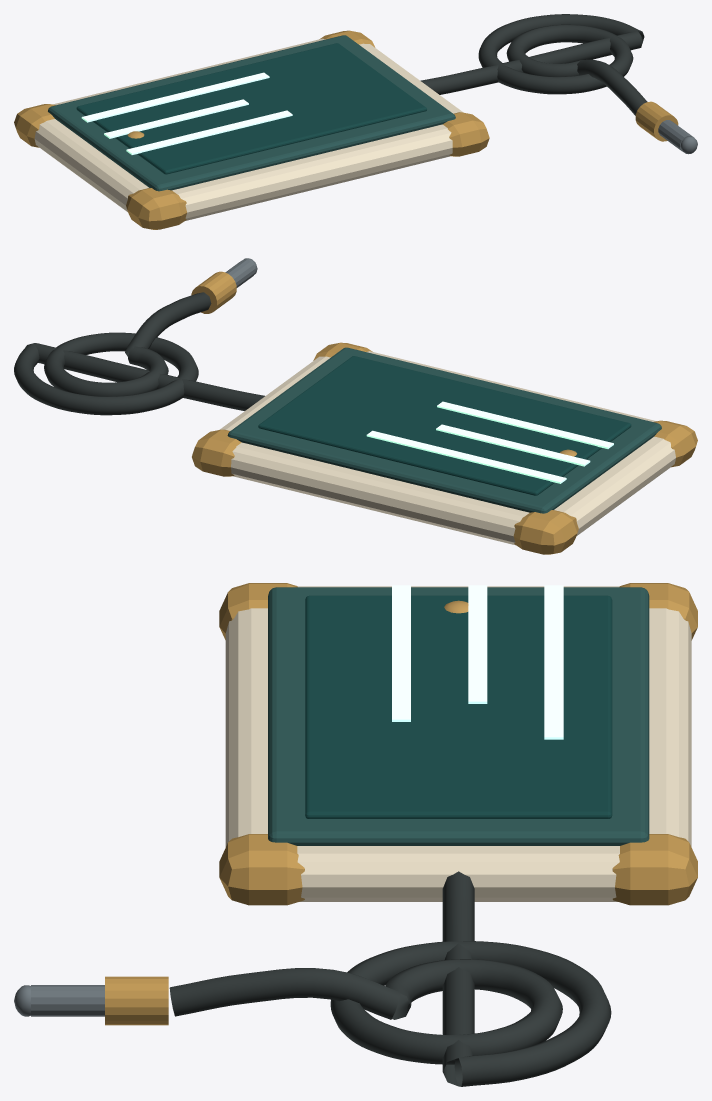
The picture shows the model from 3 angles, top to bottom: view 1: azimuth 30°, elevation 25°; view 2: azimuth 150°, elevation 25°; view 3: azimuth 270°, elevation 25°; orthographic projection. The views are drawn at different scales.
Visible parts, largest first — view 1: Slate glass, Cream enamel case, Teal glass surround, Coiled slate cord, Slate cord lead, Brass corner cap, Brass corner cap.002, Slate cord tail, Faint screen line 0, Faint screen line 2, Faint screen line 1, Brass corner cap.001 (+3 smaller); view 2: Slate glass, Cream enamel case, Teal glass surround, Coiled slate cord, Slate cord lead, Brass corner cap.001, Slate cord tail, Brass corner cap.003, Faint screen line 0, Faint screen line 2, Faint screen line 1, Brass corner cap (+2 smaller); view 3: Slate glass, Cream enamel case, Teal glass surround, Coiled slate cord, Slate cord tail, Slate cord lead, Brass corner cap.002, Brass corner cap.003, Brass plug collar, Faint screen line 0, Faint screen line 2, Faint screen line 1 (+3 smaller).
Part boxes in pixels (x1,y1,x2,y2): Slate glass: (76,43,426,174); Cream enamel case: (34,38,463,220); Teal glass surround: (48,35,455,191); Coiled slate cord: (478,14,644,94); Slate cord lead: (420,31,642,94); Brass corner cap: (126,188,186,229); Brass corner cap.002: (443,112,489,156); Slate cord tail: (577,59,647,115); Faint screen line 0: (81,72,269,122); Faint screen line 2: (126,110,292,154); Faint screen line 1: (104,99,248,138); Brass corner cap.001: (14,104,55,147); Slate glass: (258,356,631,495); Cream enamel case: (219,351,675,545); Teal glass surround: (227,347,661,513); Coiled slate cord: (14,332,198,415); Slate cord lead: (34,343,264,410); Brass corner cap.001: (513,510,578,554); Slate cord tail: (125,292,211,356); Brass corner cap.003: (192,429,241,476); Faint screen line 0: (366,430,566,483); Faint screen line 2: (437,401,613,448); Faint screen line 1: (436,424,590,466); Brass corner cap: (653,420,697,467); Slate glass: (305,595,612,818); Cream enamel case: (225,586,691,901); Teal glass surround: (268,587,649,845); Coiled slate cord: (330,941,611,1086); Slate cord tail: (169,968,400,1019); Slate cord lead: (442,871,474,1086); Brass corner cap.002: (219,834,304,905); Brass corner cap.003: (612,834,697,905); Brass plug collar: (105,976,168,1025); Faint screen line 0: (544,585,563,739); Faint screen line 2: (392,585,410,721); Faint screen line 1: (468,585,487,703).
Size of the model in its own units: 0.5302 by 0.037 by 0.323.
